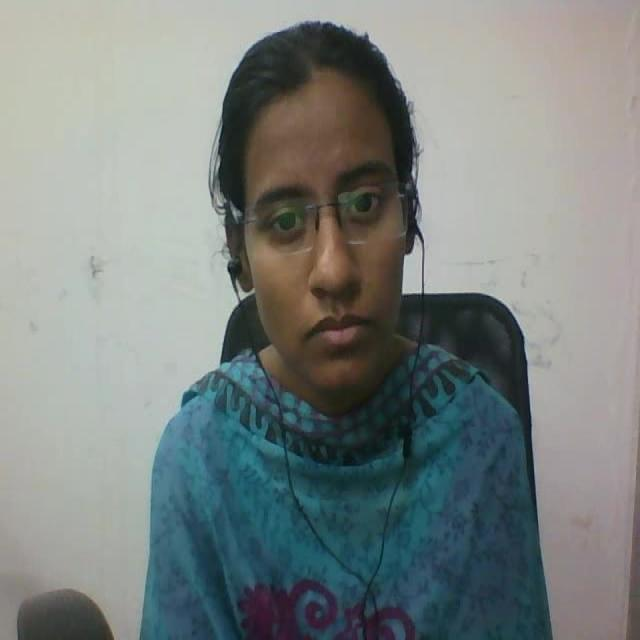Engaged: (202, 2, 432, 429)
